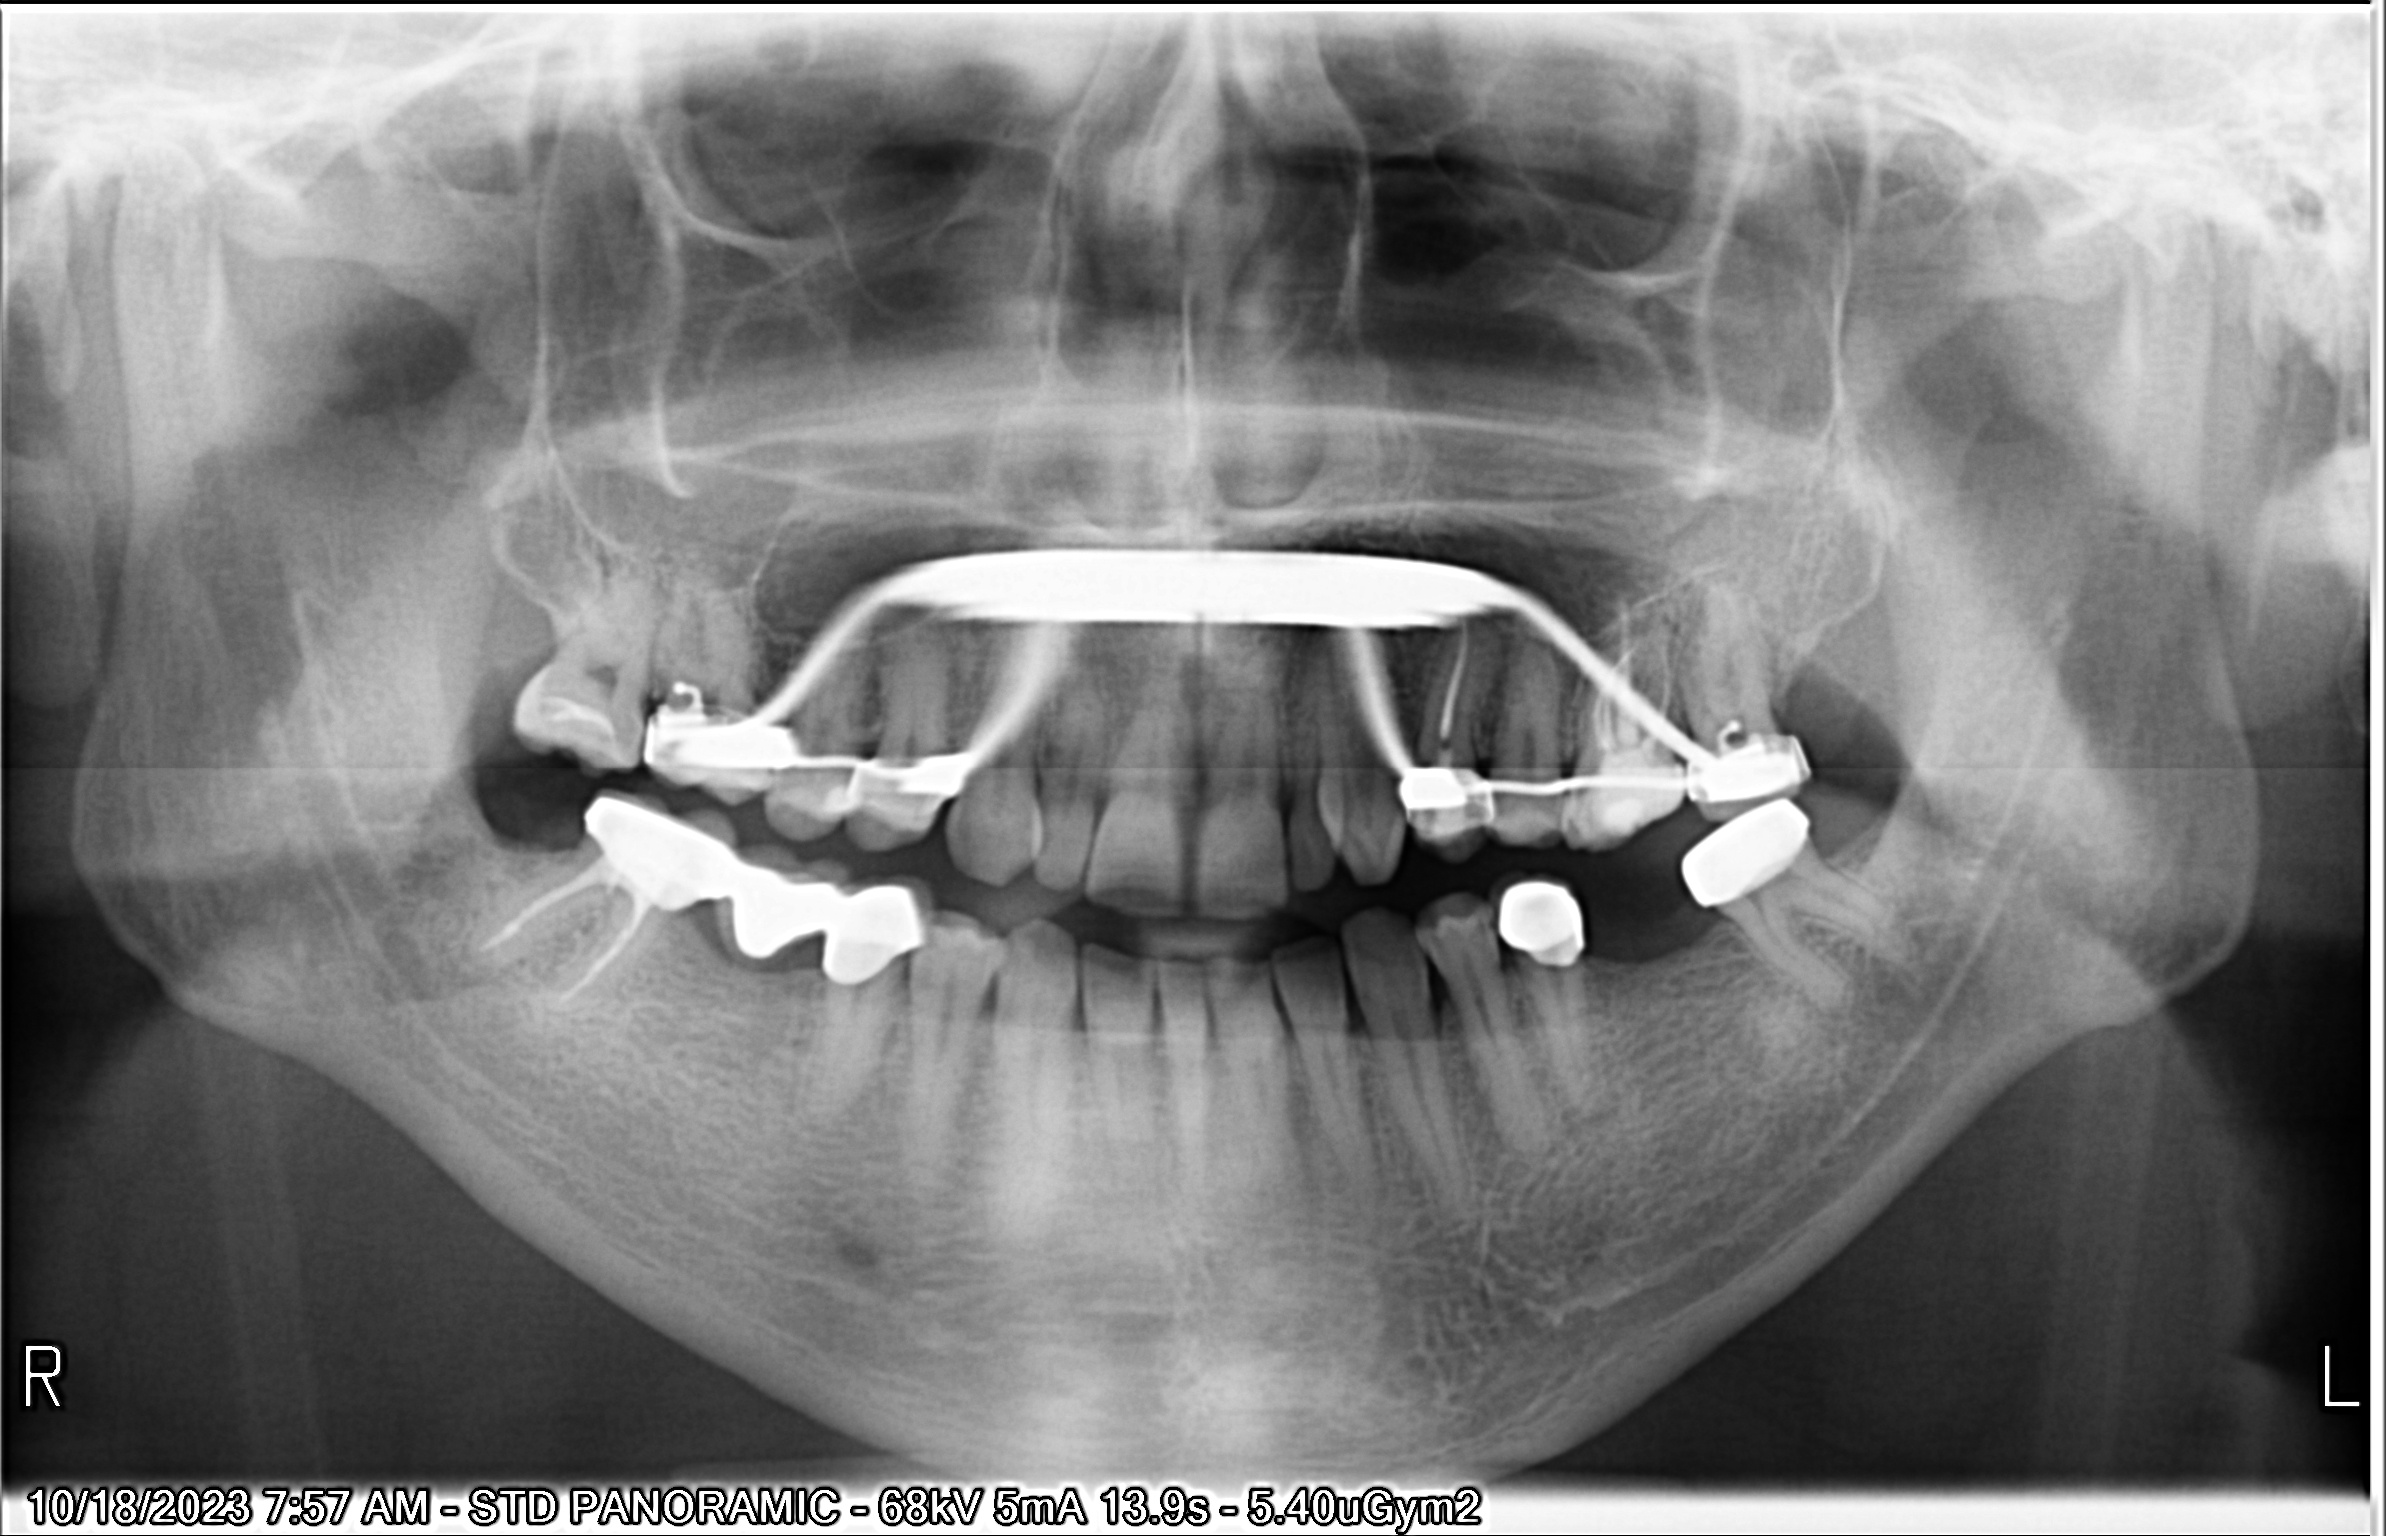END: (456, 865, 654, 1032), (1577, 612, 1692, 769), (1426, 611, 1492, 757)
ORD: (645, 543, 1831, 847)
PRR: (555, 781, 941, 1019), (1670, 783, 1843, 932), (1494, 868, 1591, 985)
